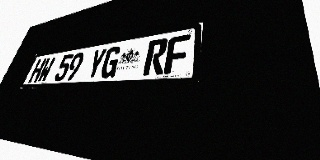5: (53, 54, 74, 81)
9: (64, 52, 86, 81)
F: (163, 34, 190, 74)
G: (99, 45, 122, 78)
H: (28, 58, 47, 83)
R: (142, 38, 168, 76)
W: (36, 57, 56, 83)
Y: (85, 48, 108, 79)
